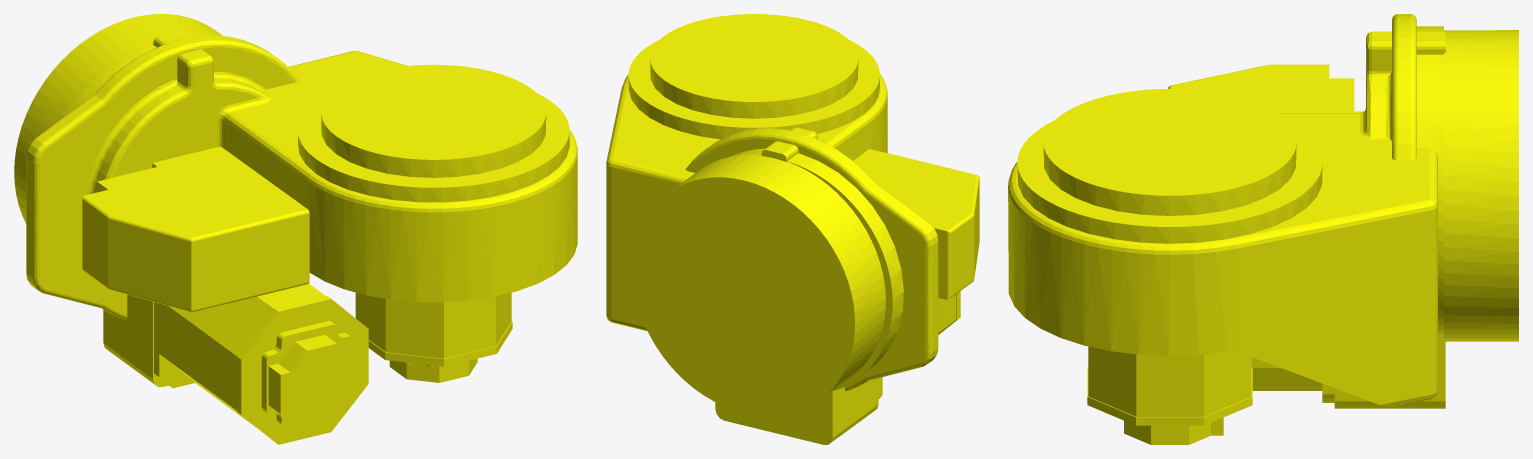
The picture shows the model from 3 angles, left to right: view 1: azimuth 30°, elevation 25°; view 2: azimuth 150°, elevation 25°; view 3: azimuth 270°, elevation 25°; orthographic projection. The views are drawn at different scales.
Parts seen in each view (by area): view 1: node; view 2: node; view 3: node.
Boxes of the visible parts, left/top/right/bottom form: node: left=14, top=14, right=577, bottom=444; node: left=606, top=14, right=979, bottom=444; node: left=1008, top=14, right=1518, bottom=444.
Bounding box in the file's own units: 442 × 308 × 410.
